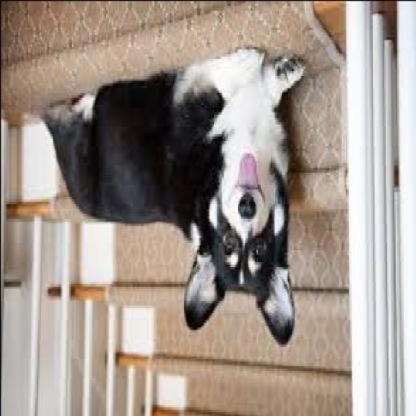dog: (40, 46, 307, 346)
